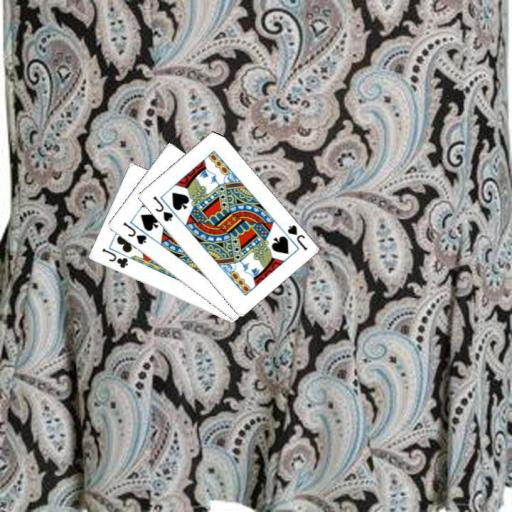JC: (98, 245, 130, 270)
JS: (284, 221, 309, 253), (119, 219, 148, 246), (150, 193, 175, 223)
